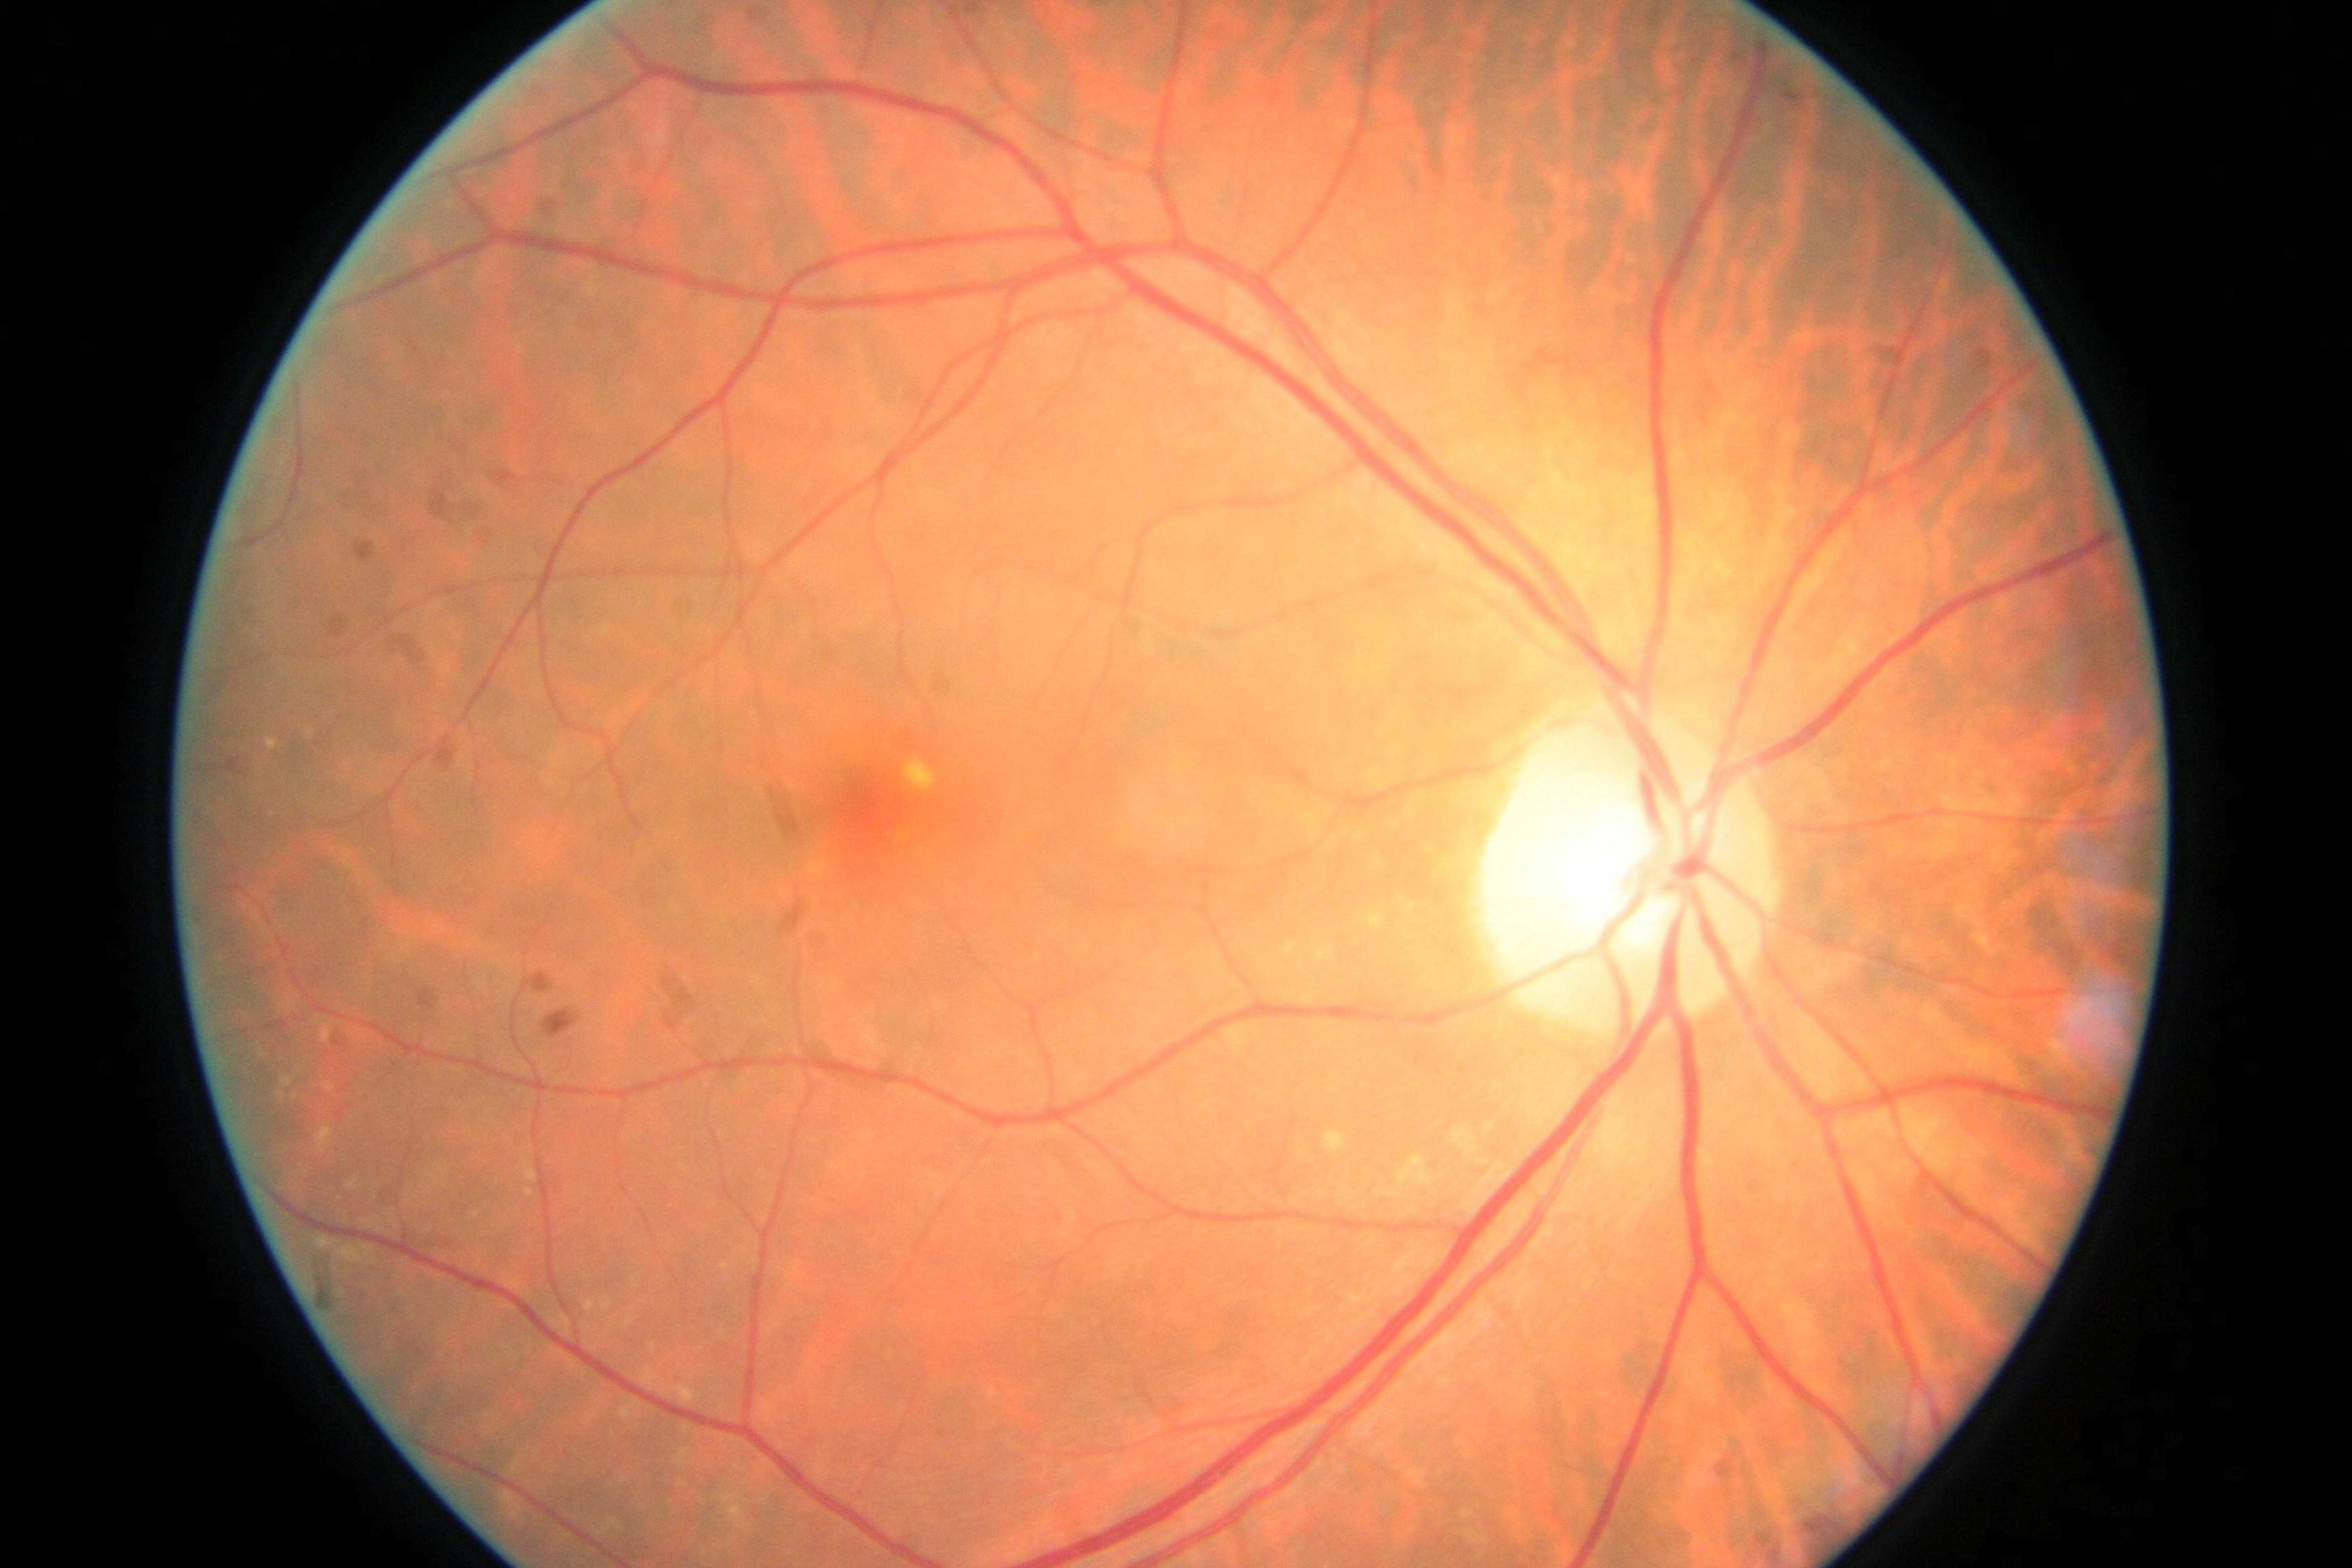Optic-nerve: (1472, 693, 1792, 1043)
macula: (684, 723, 1004, 955)
